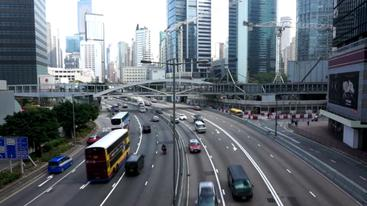bus: (81, 123, 134, 190), (109, 108, 133, 134)
car: (221, 158, 256, 204), (41, 149, 80, 177), (122, 146, 153, 179), (192, 174, 221, 206), (184, 135, 202, 156), (191, 119, 210, 136), (140, 121, 152, 136)
motorcycle: (158, 140, 170, 155)
